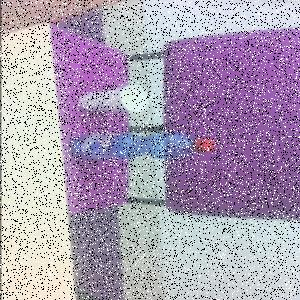Cup: (78, 86, 150, 114)
Plastic-bottle: (67, 134, 215, 161)
